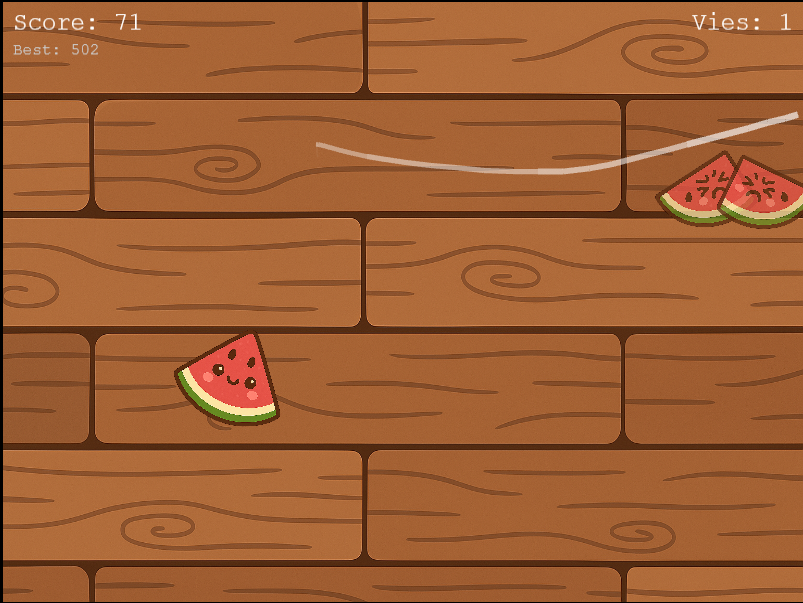fruit: (169, 324, 286, 441)
